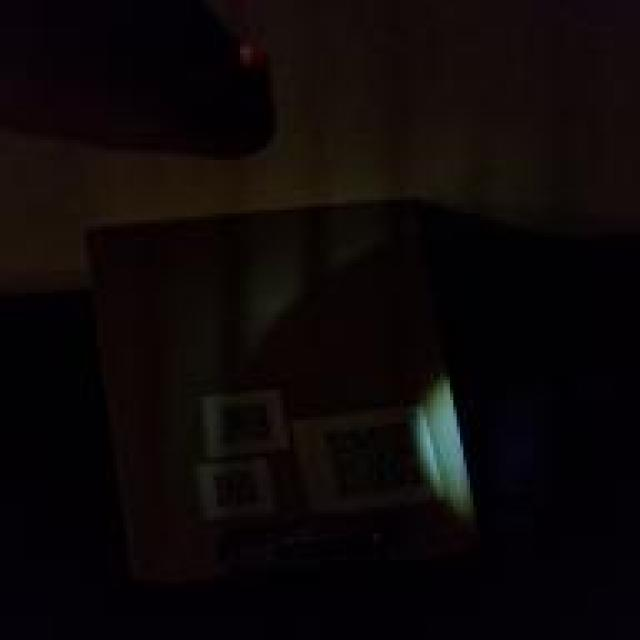QR_CODE: (318, 417, 434, 503), (202, 395, 276, 450), (202, 463, 266, 517)
